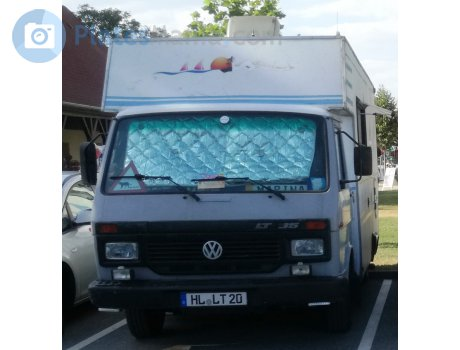License Plates: (189, 294, 243, 304)
